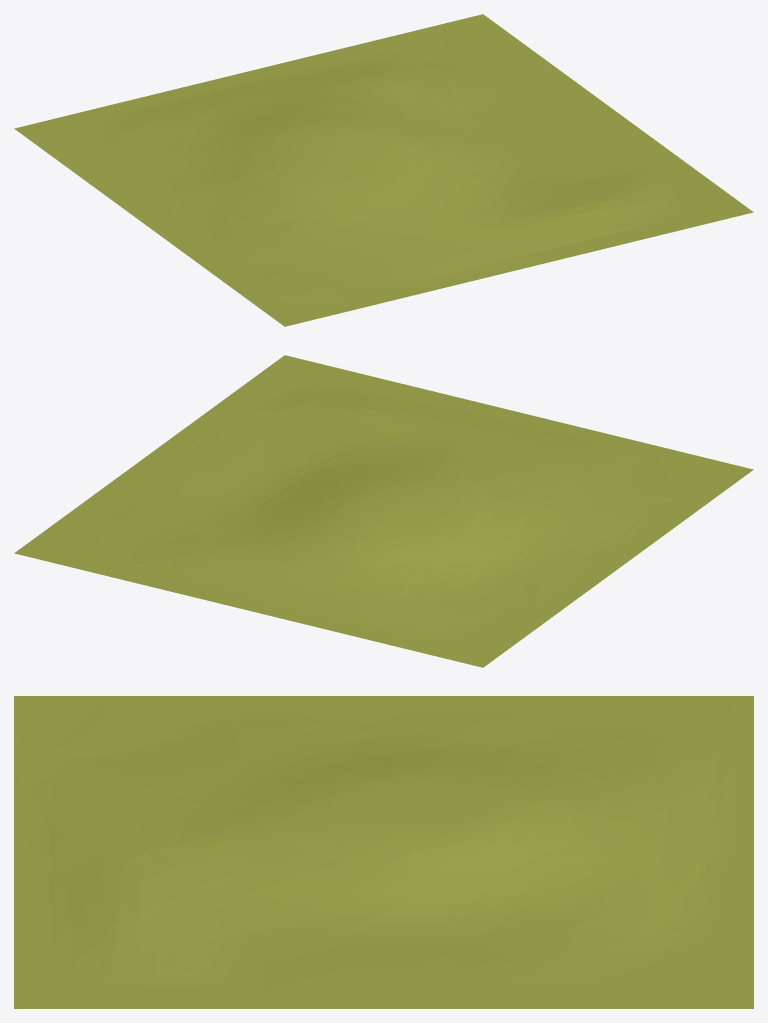
The model's file is Terrain_32.glb.
3 views of the same model, one above another, from view 1: azimuth 30°, elevation 25°; view 2: azimuth 150°, elevation 25°; view 3: azimuth 270°, elevation 25° (orthographic). The views are drawn at different scales.
Parts seen in each view (by area): view 1: Terrain_32; view 2: Terrain_32; view 3: Terrain_32.
Part boxes in pixels (<box>): Terrain_32: <box>14,14,753,326</box>; Terrain_32: <box>14,355,753,667</box>; Terrain_32: <box>14,696,753,1008</box>.
Size of the model in its own units: 128 by 4.14 by 128.
1 material, 1 textured.
